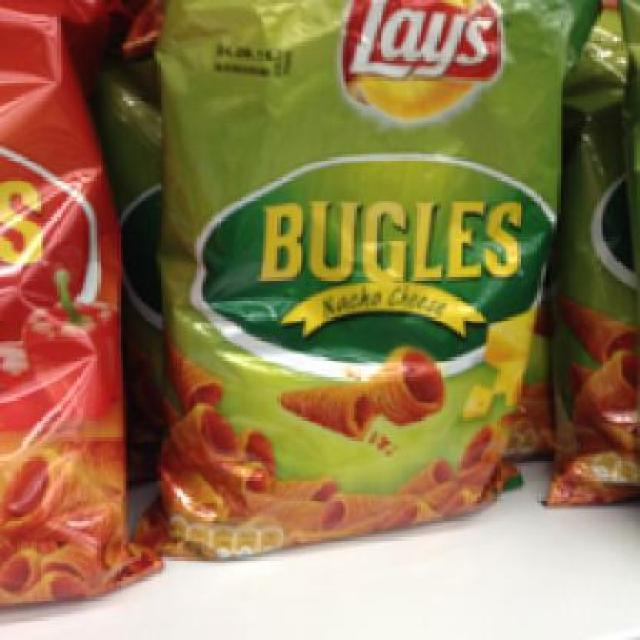Chips: (143, 0, 560, 549), (0, 3, 157, 606)
